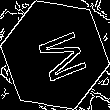M_W: (25, 24, 85, 86)
